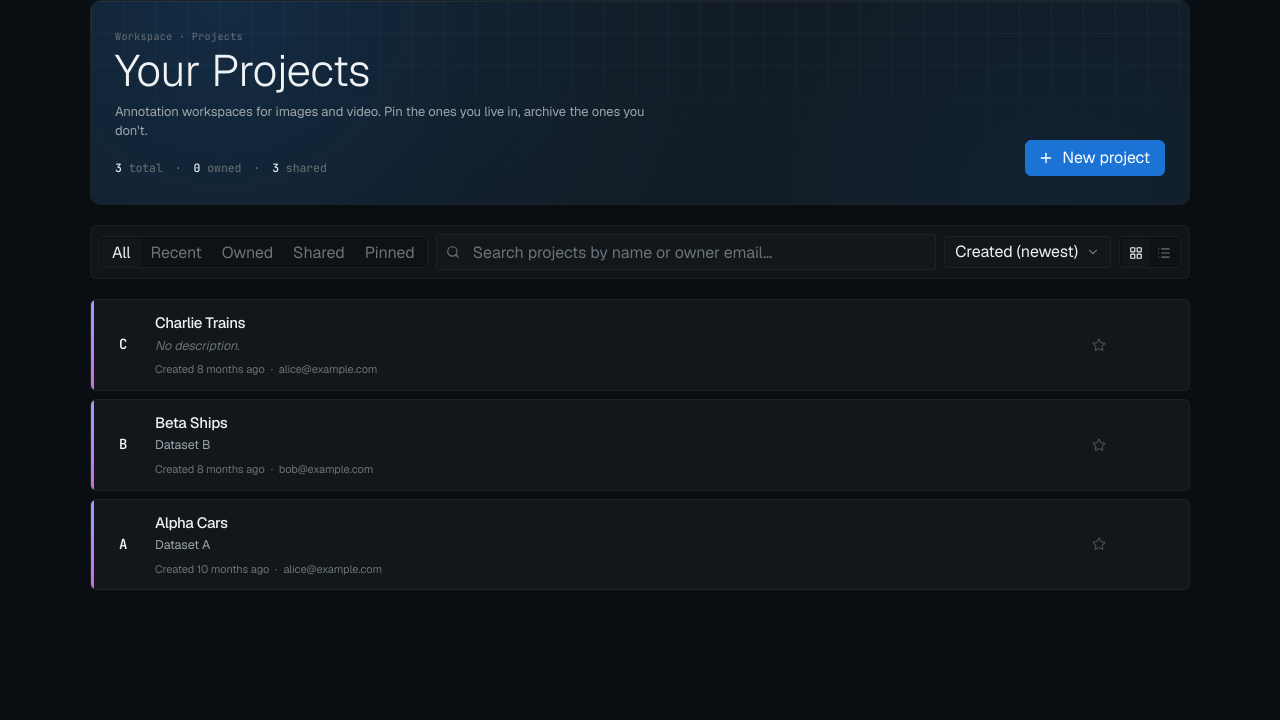
Test: ProjectsToolbar › narrows the list when typing in the search box (debounced)
The width and height of the screenshot is (1280, 720).
Expected: the heading "Alpha Cars" is shown, x1=155 y1=512 x2=228 y2=534
Expected: the heading "Beta Ships" is shown, x1=155 y1=412 x2=228 y2=434
In the search field with test id "projects-toolbar-search": (686, 252) x1=436 y1=234 x2=936 y2=270, type "alpha"
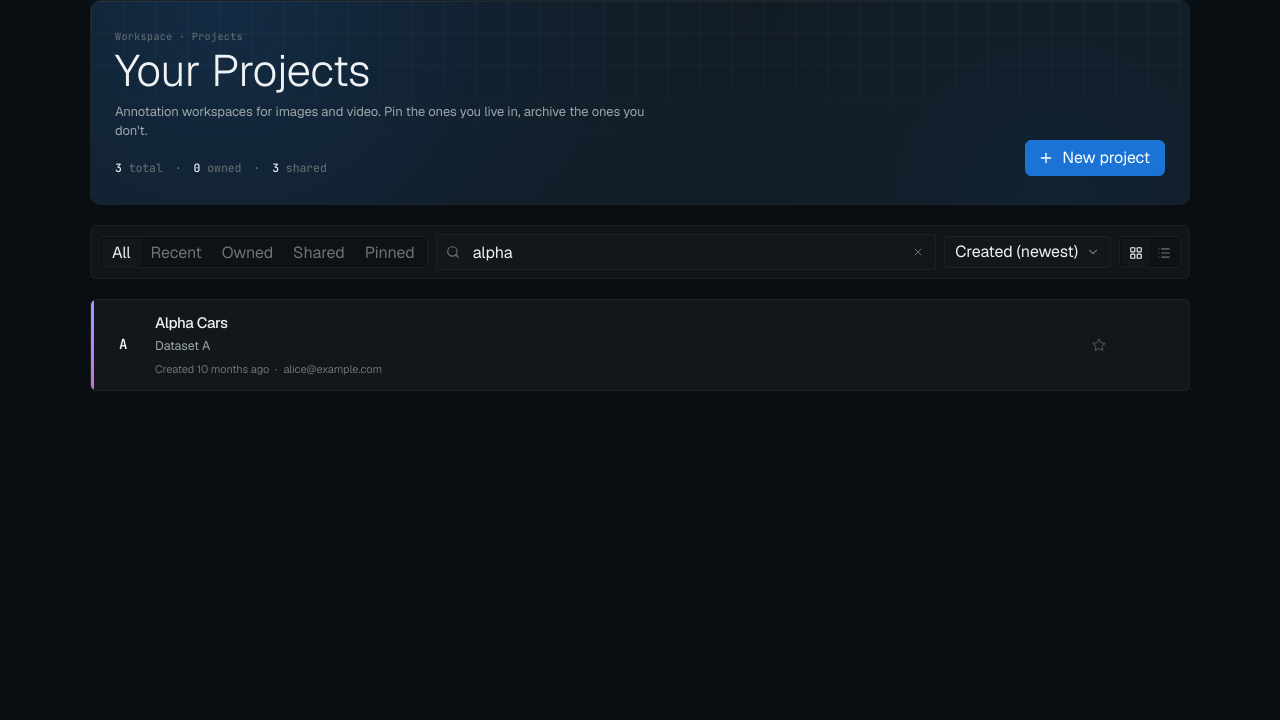
Expected: the heading "Alpha Cars" is shown, x1=155 y1=312 x2=228 y2=334
Result: the link "Beta Ships" is gone
Result: the link "Charlie Trains" is gone
